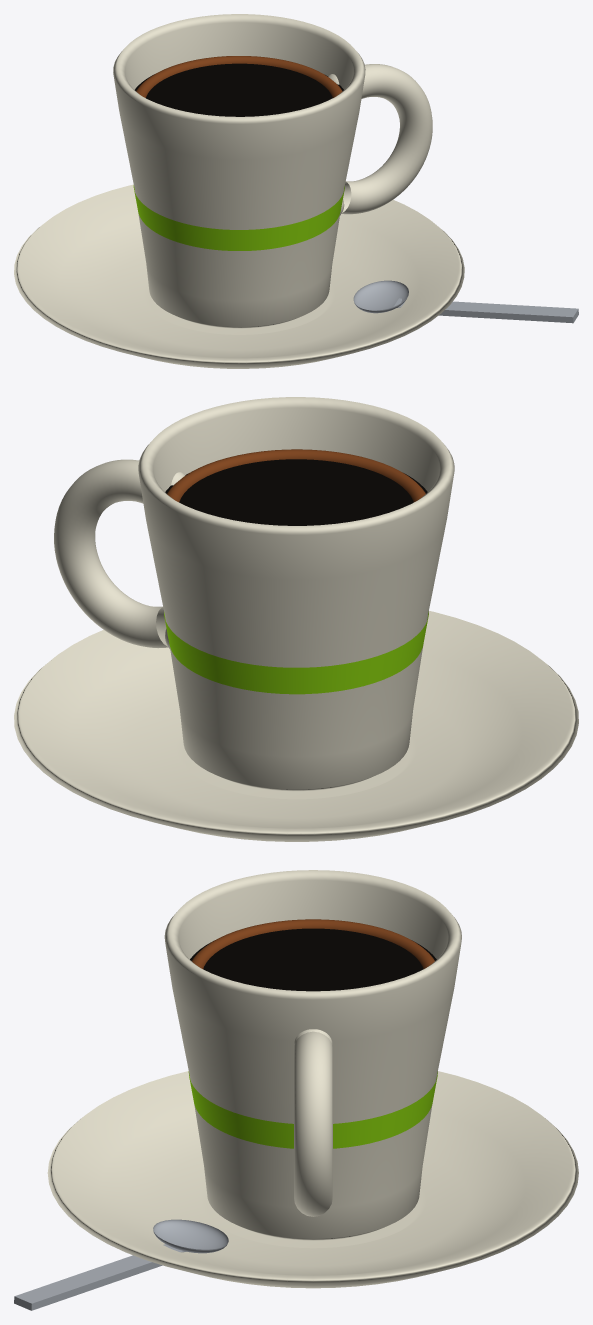
Rendered from loot-coffee-cup.obj.
The picture shows the model from 3 angles, top to bottom: view 1: azimuth 30°, elevation 25°; view 2: azimuth 150°, elevation 25°; view 3: azimuth 270°, elevation 25°; orthographic projection. The views are drawn at different scales.
Parts seen in each view (by area): view 1: cup-body, saucer, coffee, handle, glaze-band, spoon-handle, crema, spoon-bowl; view 2: cup-body, saucer, coffee, handle, glaze-band, crema; view 3: cup-body, saucer, coffee, handle, glaze-band, crema, spoon-handle, spoon-bowl.
Part boxes in pixels (bbox=[...]): cup-body: bbox=[113, 14, 365, 328]; saucer: bbox=[14, 184, 464, 368]; coffee: bbox=[135, 63, 343, 116]; handle: bbox=[341, 64, 432, 214]; glaze-band: bbox=[133, 185, 344, 250]; spoon-handle: bbox=[393, 298, 578, 323]; crema: bbox=[136, 56, 342, 97]; spoon-bowl: bbox=[353, 280, 408, 313]; cup-body: bbox=[138, 397, 454, 791]; saucer: bbox=[14, 611, 578, 841]; coffee: bbox=[165, 459, 427, 525]; handle: bbox=[54, 459, 168, 648]; glaze-band: bbox=[164, 611, 428, 694]; crema: bbox=[167, 449, 425, 502]; cup-body: bbox=[164, 870, 461, 1240]; saucer: bbox=[47, 1071, 578, 1288]; coffee: bbox=[190, 928, 436, 991]; handle: bbox=[294, 1031, 332, 1216]; glaze-band: bbox=[188, 1071, 437, 1148]; crema: bbox=[192, 919, 434, 968]; spoon-handle: bbox=[14, 1244, 186, 1310]; spoon-bowl: bbox=[153, 1219, 228, 1253].
Bounding box in the file's own units: 0.1595 × 0.0915 × 0.1595.
